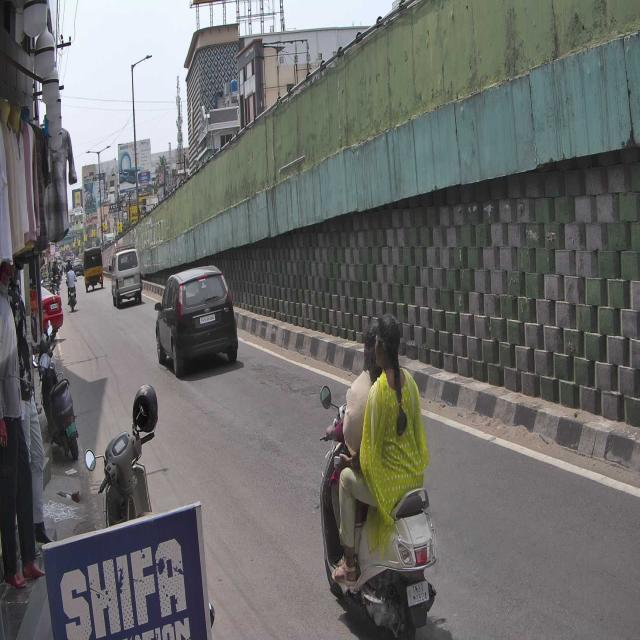double_rider: (319, 311, 440, 640)
